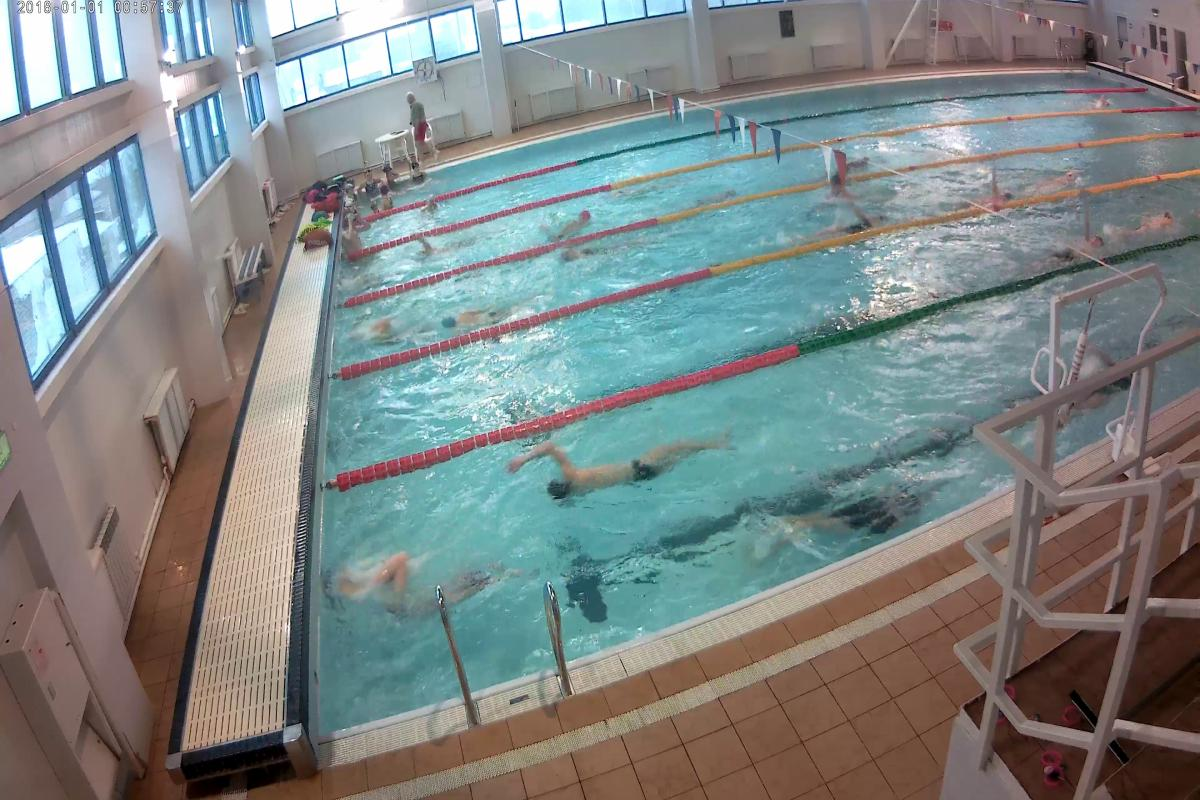swimmer: (515, 431, 729, 511), (773, 471, 928, 553), (352, 550, 497, 624), (431, 298, 503, 335), (1050, 219, 1105, 265), (824, 203, 887, 238), (547, 240, 614, 271), (549, 205, 599, 240), (955, 176, 1015, 205), (1133, 201, 1178, 232)
